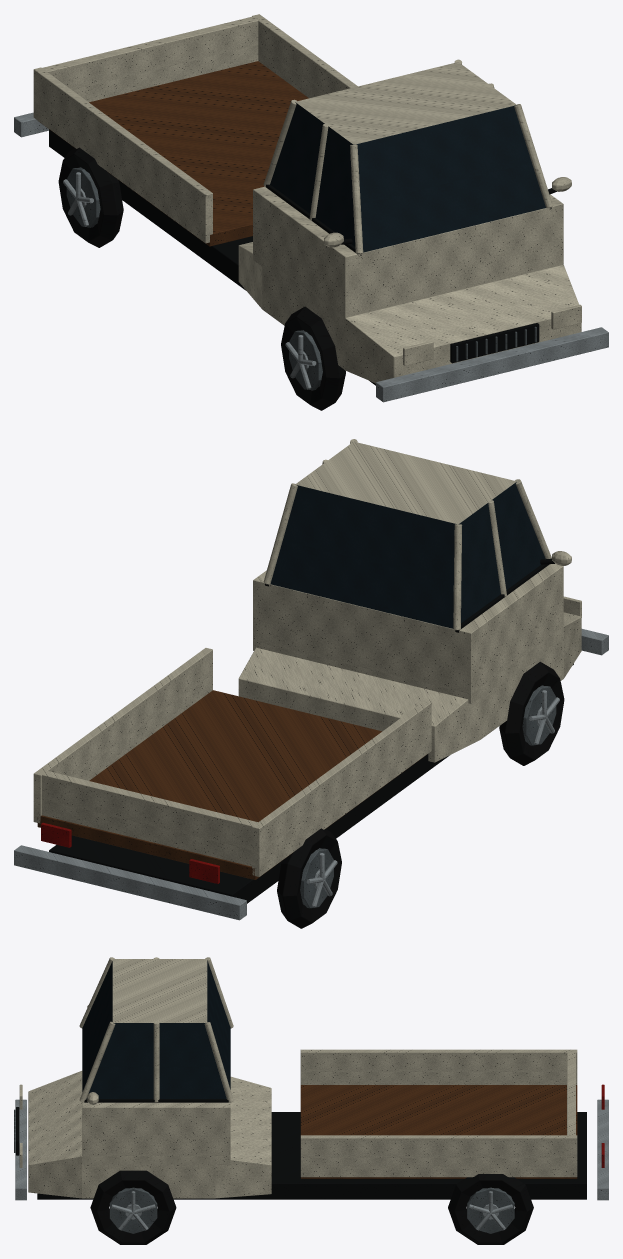
The model's file is PROP-DC867A434090_lod1.glb.
3 views of the same model, one above another, from view 1: azimuth 30°, elevation 25°; view 2: azimuth 150°, elevation 25°; view 3: azimuth 270°, elevation 25° (orthographic). The views are drawn at different scales.
Visible parts, largest first — view 1: sloped_cabin_glazing.003, lower_cab_shell.001, bed_deck.001, shaped_body_panels.005, bed_sides.001, roof_panel.003, tailgate.001, tire.005, bumper.005, chassis.005, window_pillars.003, rim.005 (+3 smaller); view 2: sloped_cabin_glazing.003, bed_deck.001, lower_cab_shell.001, bed_sides.001, shaped_body_panels.005, tailgate.001, roof_panel.003, chassis.005, tire.005, bumper.005, window_pillars.003, rim.005 (+2 smaller); view 3: bed_sides.001, shaped_body_panels.005, bed_deck.001, sloped_cabin_glazing.003, lower_cab_shell.001, chassis.005, tire.005, roof_panel.003, rim.005, window_pillars.003, bumper.005, rim_spokes.005 (+2 smaller).
Boxes of the visible parts, box(x1,y1,x2,y2) form: sloped_cabin_glazing.003: box(270, 102, 545, 252); lower_cab_shell.001: box(253, 186, 563, 326); bed_deck.001: box(38, 61, 308, 246); shaped_body_panels.005: box(238, 242, 581, 383); bed_sides.001: box(33, 14, 357, 243); roof_panel.003: box(295, 62, 516, 144); tailgate.001: box(39, 15, 259, 102); tire.005: box(58, 147, 345, 410); bumper.005: box(14, 112, 608, 402); chassis.005: box(49, 129, 375, 385); window_pillars.003: box(263, 59, 552, 253); rim.005: box(66, 167, 322, 390); sloped_cabin_glazing.003: box(270, 482, 545, 628); bed_deck.001: box(37, 690, 427, 879); lower_cab_shell.001: box(253, 563, 563, 703); bed_sides.001: box(33, 648, 431, 876); shaped_body_panels.005: box(238, 612, 581, 762); tailgate.001: box(42, 770, 260, 866); roof_panel.003: box(295, 441, 516, 524); chassis.005: box(49, 663, 573, 903); tire.005: box(277, 661, 564, 928); bumper.005: box(14, 629, 608, 920); window_pillars.003: box(263, 439, 551, 630); rim.005: box(300, 685, 556, 908); bed_sides.001: box(300, 1049, 577, 1177); shaped_body_panels.005: box(28, 1071, 271, 1198); bed_deck.001: box(300, 1085, 577, 1178); sloped_cabin_glazing.003: box(82, 960, 230, 1098); lower_cab_shell.001: box(82, 1102, 230, 1164); chassis.005: box(37, 1112, 586, 1199); tire.005: box(90, 1170, 533, 1244); roof_panel.003: box(112, 959, 207, 1022); rim.005: box(109, 1187, 514, 1233); window_pillars.003: box(79, 957, 233, 1102); bumper.005: box(15, 1099, 608, 1200); rim_spokes.005: box(111, 1191, 513, 1230).
Bounding box in the file's own units: 2.56 × 2.6 × 6.61.
8 materials, 8 textured.
